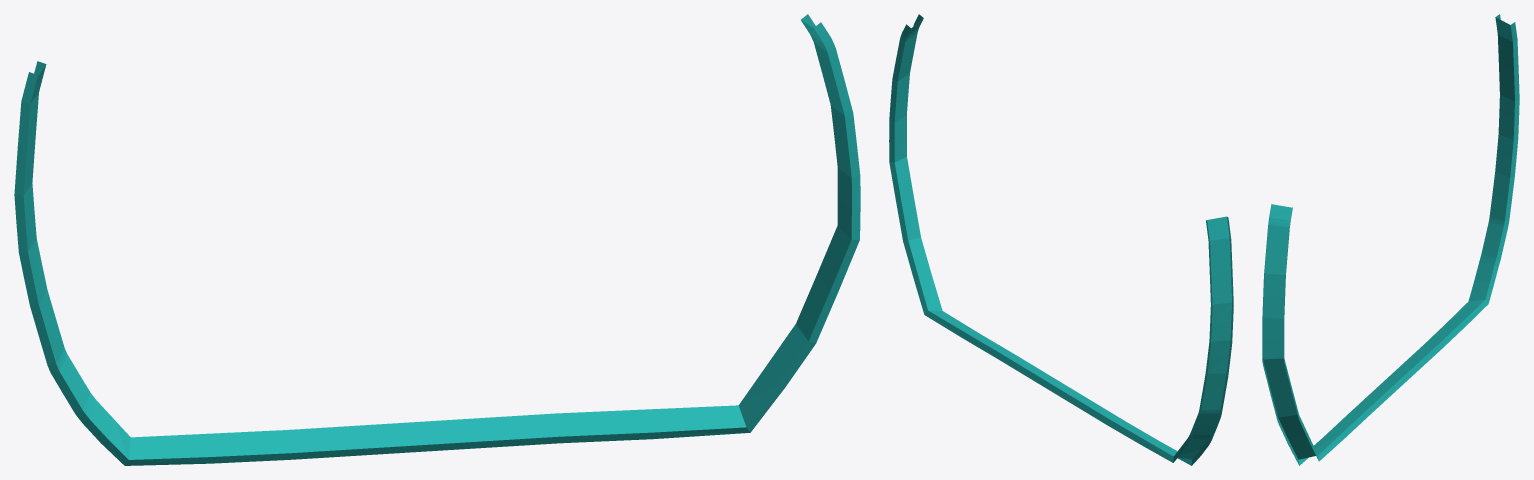
Rendered from tile_372.glb.
3 views of the same model, side by side, from view 1: azimuth 30°, elevation 25°; view 2: azimuth 150°, elevation 25°; view 3: azimuth 270°, elevation 25° (orthographic). The views are drawn at different scales.
Size of the model in its own units: 4.8 by 2.89 by 2.38.
